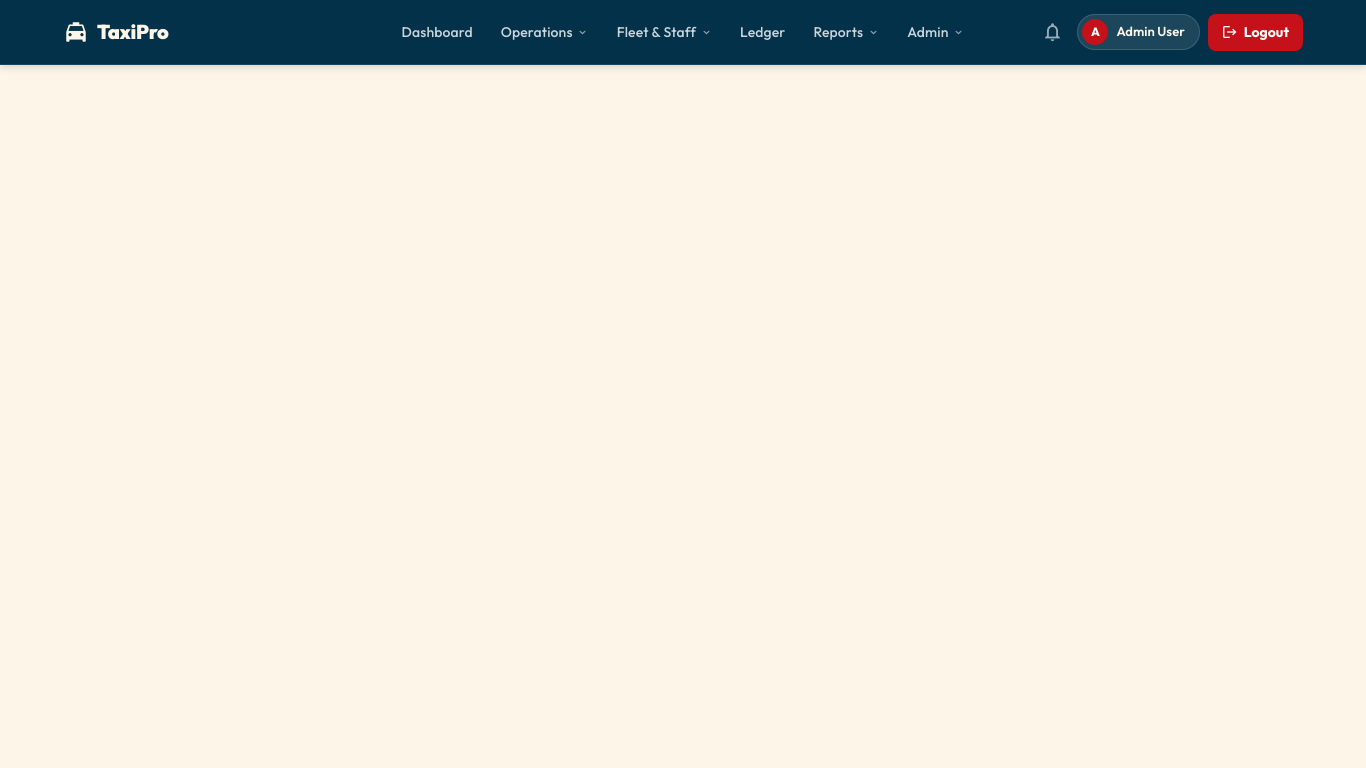
Scenario: opens Operations dropdown and shows sub-links
The image size is (1366, 768).
Click the button "Operations". click: (545, 32)
box: [489, 14, 601, 50]
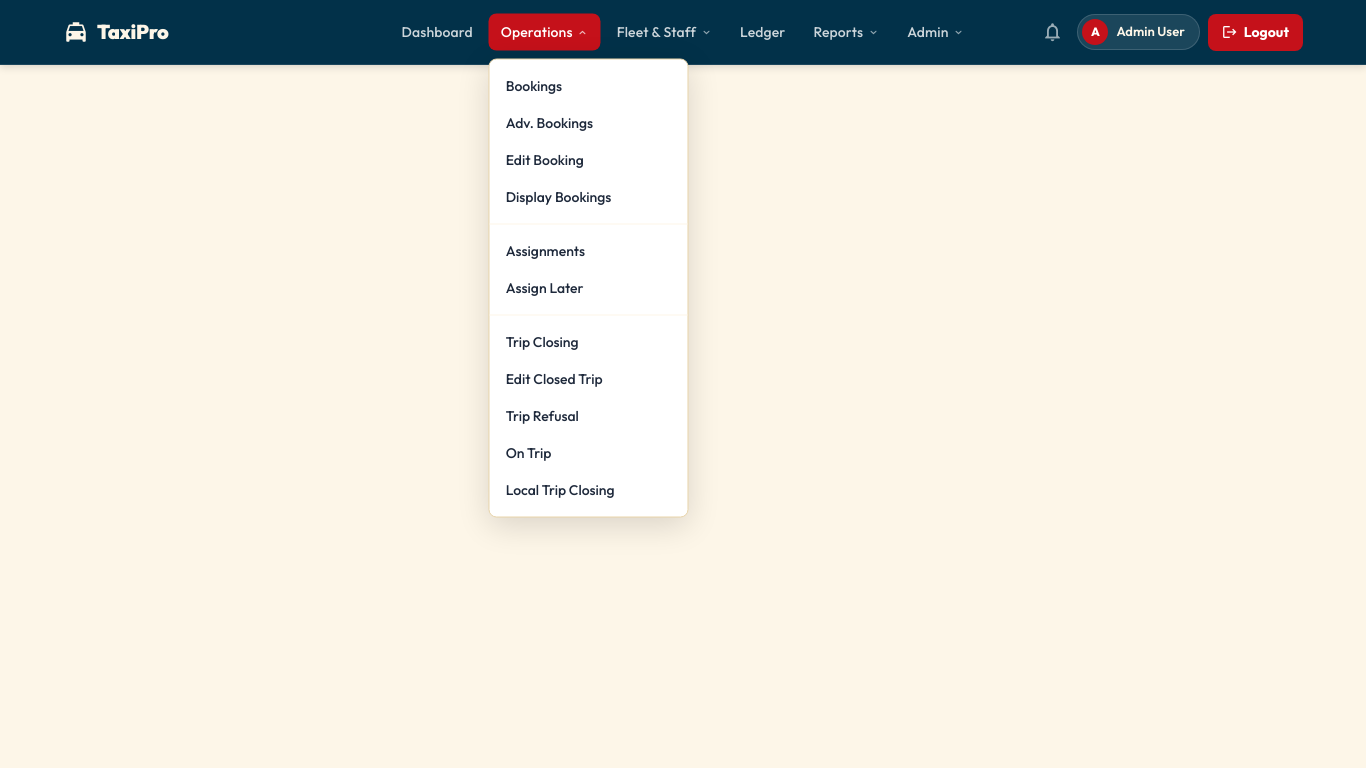
Expected: the link "Adv. Bookings" is shown, [506, 114, 593, 132]
Expected: the link "Trip Closing" is shown, [506, 332, 579, 350]
Expected: the link "On Trip" is shown, [506, 444, 552, 462]
